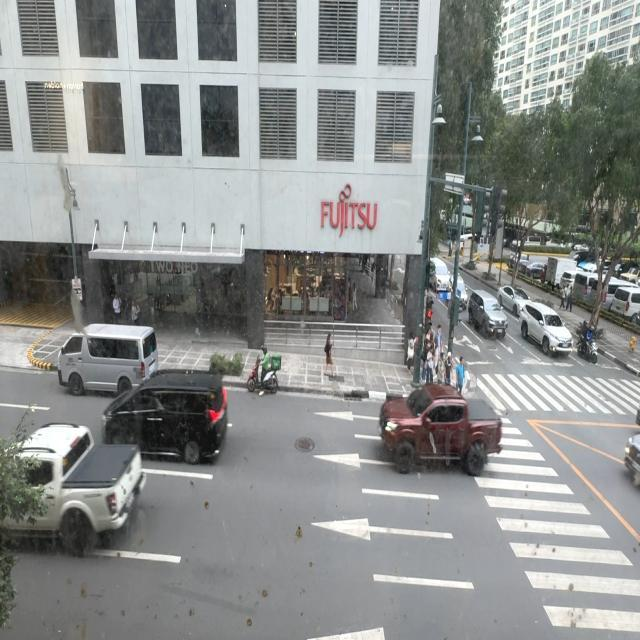waiting: (422, 326, 434, 361), (422, 350, 434, 384), (406, 332, 416, 372), (456, 356, 466, 394), (434, 324, 444, 360), (432, 338, 441, 374), (436, 352, 446, 384), (444, 352, 452, 386)
